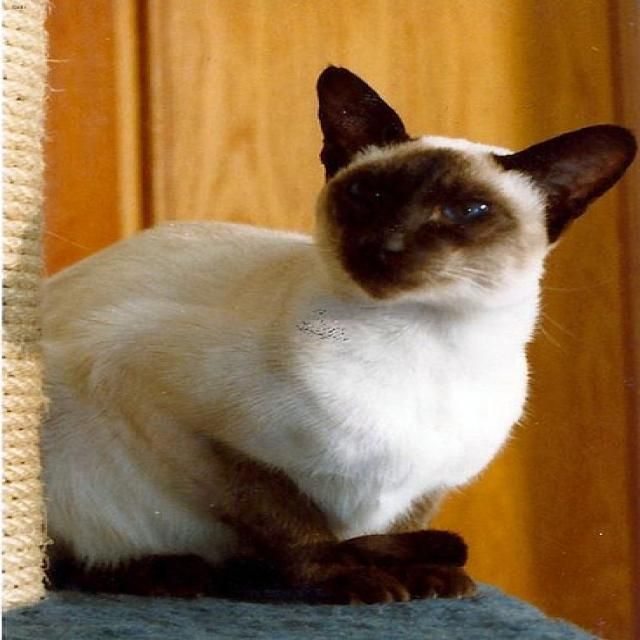Siamese: (314, 66, 633, 304)
